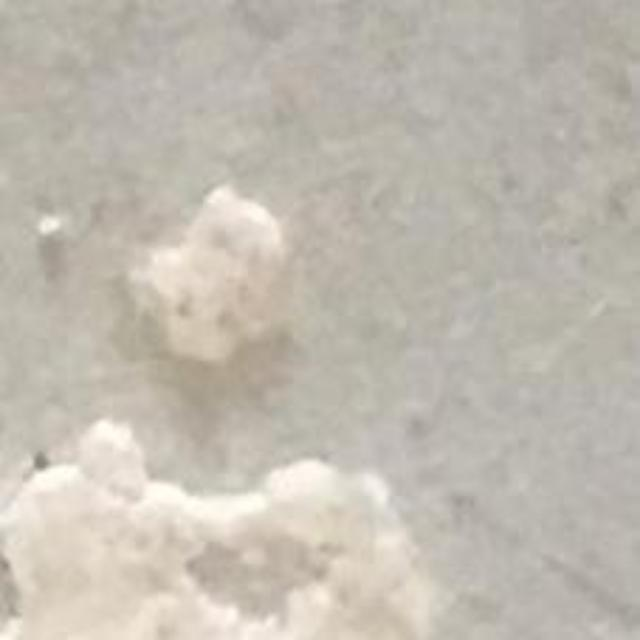peeling plaster: (0, 421, 425, 639)
